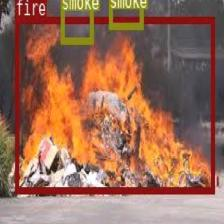fire: (14, 15, 214, 192)
smoke: (60, 0, 92, 43), (108, 0, 142, 27)
